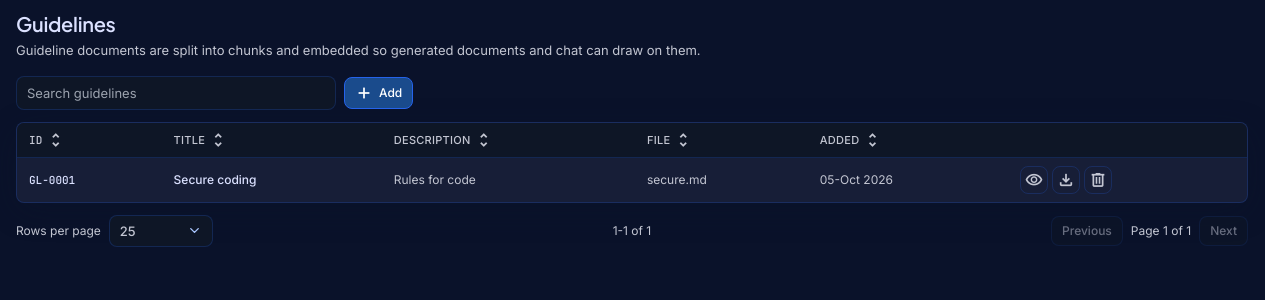
Test case: a download error is shown
The image size is (1265, 300).
What coordinates should you click on to do the following:
click the button named "Download Secure coding"
I would click on:
 (1066, 180)
Its box is [1052, 166, 1080, 194].
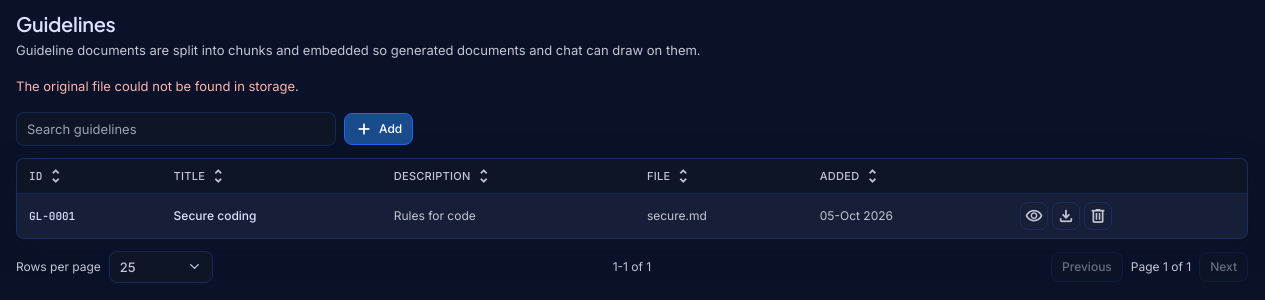
Result: the text "The original file could not be found in storage." is shown at [16, 78, 299, 94]
